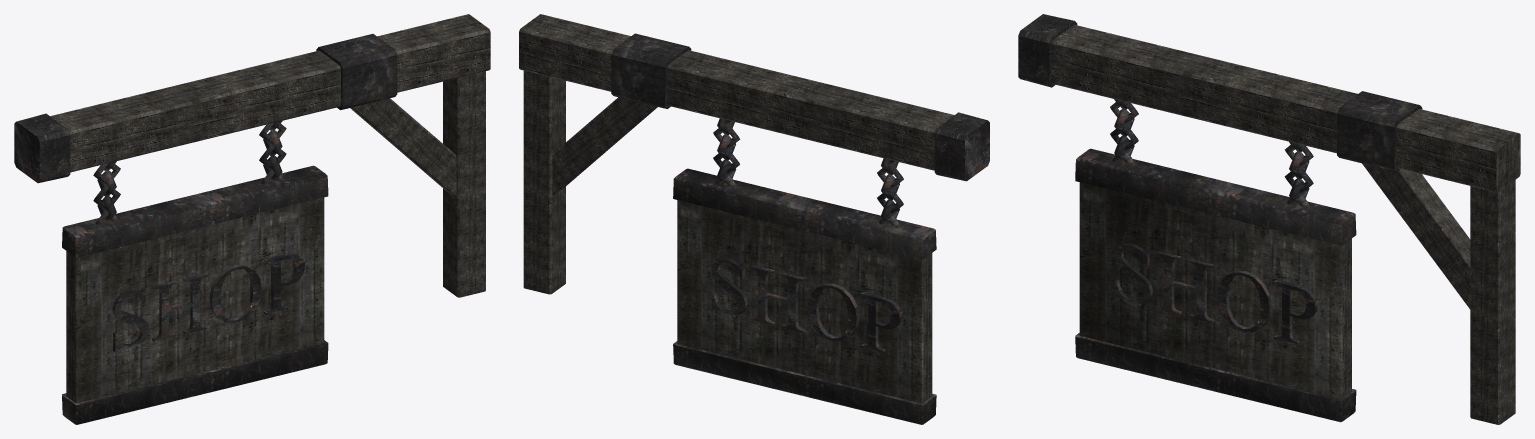
The model's file is Shop_Sign_3.fbx.
3 renders of one model, left to right at view 1: azimuth 30°, elevation 25°; view 2: azimuth 150°, elevation 25°; view 3: azimuth 330°, elevation 25°, orthographic. The views are drawn at different scales.
Visible parts, largest first — view 1: Shop_Sign_3; view 2: Shop_Sign_3; view 3: Shop_Sign_3.
Boxes of the visible parts, <box> form: Shop_Sign_3: <box>14,14,490,424</box>; Shop_Sign_3: <box>519,14,989,424</box>; Shop_Sign_3: <box>1018,14,1520,424</box>.
Size of the model in its own units: 122 by 78.42 by 12.14.
